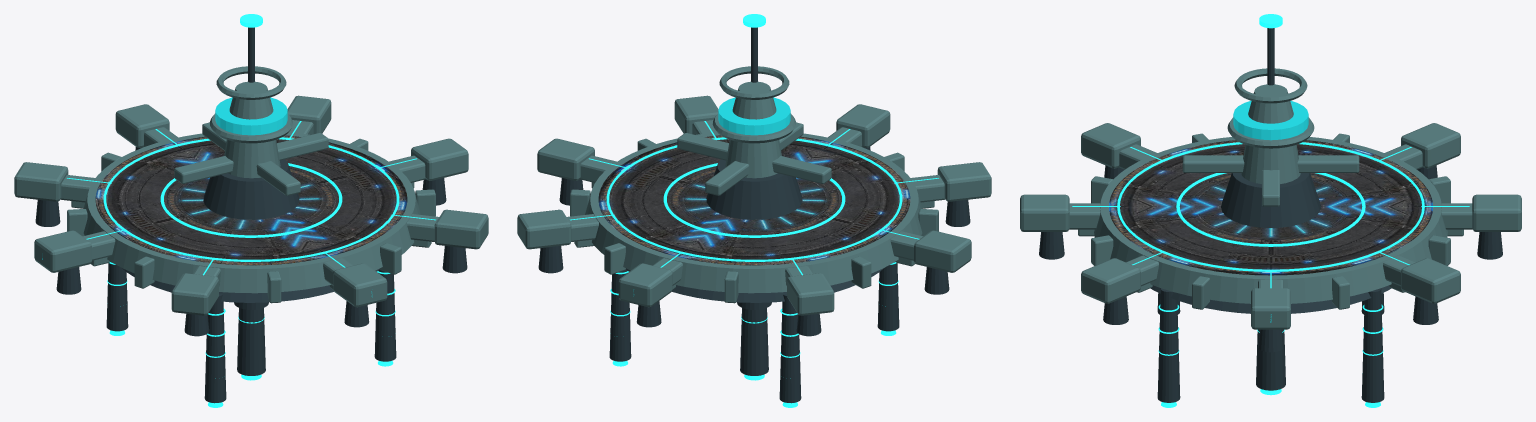
File: tempest-ozone-base-v2.glb
3 views of the same model, side by side, from view 1: azimuth 30°, elevation 25°; view 2: azimuth 150°, elevation 25°; view 3: azimuth 270°, elevation 25° (orthographic). The views are drawn at different scales.
Visible parts, largest first — view 1: tempest_ozone_base_v2__lod0__Tempest orbital armor, tempest_ozone_base_v2__lod0__Tempest tactical mesh overlay, tempest_ozone_base_v2__lod0__Tempest structural shadow, tempest_ozone_base_v2__lod0__Tempest emissive guidance, tempest_ozone_base_v2__lod0__Tempest recessed glazing; view 2: tempest_ozone_base_v2__lod0__Tempest orbital armor, tempest_ozone_base_v2__lod0__Tempest tactical mesh overlay, tempest_ozone_base_v2__lod0__Tempest structural shadow, tempest_ozone_base_v2__lod0__Tempest emissive guidance, tempest_ozone_base_v2__lod0__Tempest recessed glazing; view 3: tempest_ozone_base_v2__lod0__Tempest orbital armor, tempest_ozone_base_v2__lod0__Tempest tactical mesh overlay, tempest_ozone_base_v2__lod0__Tempest structural shadow, tempest_ozone_base_v2__lod0__Tempest emissive guidance, tempest_ozone_base_v2__lod0__Tempest recessed glazing.
Boxes of the visible parts, bbox=[...] form: tempest_ozone_base_v2__lod0__Tempest orbital armor: bbox=[14, 66, 488, 315]; tempest_ozone_base_v2__lod0__Tempest tactical mesh overlay: bbox=[95, 135, 407, 265]; tempest_ozone_base_v2__lod0__Tempest structural shadow: bbox=[35, 27, 467, 403]; tempest_ozone_base_v2__lod0__Tempest emissive guidance: bbox=[67, 14, 435, 407]; tempest_ozone_base_v2__lod0__Tempest recessed glazing: bbox=[42, 97, 372, 297]; tempest_ozone_base_v2__lod0__Tempest orbital armor: bbox=[517, 66, 991, 315]; tempest_ozone_base_v2__lod0__Tempest tactical mesh overlay: bbox=[598, 135, 910, 265]; tempest_ozone_base_v2__lod0__Tempest structural shadow: bbox=[538, 27, 970, 403]; tempest_ozone_base_v2__lod0__Tempest emissive guidance: bbox=[570, 14, 938, 407]; tempest_ozone_base_v2__lod0__Tempest recessed glazing: bbox=[633, 97, 790, 296]; tempest_ozone_base_v2__lod0__Tempest orbital armor: bbox=[1020, 68, 1521, 329]; tempest_ozone_base_v2__lod0__Tempest tactical mesh overlay: bbox=[1108, 140, 1433, 275]; tempest_ozone_base_v2__lod0__Tempest structural shadow: bbox=[1039, 28, 1502, 402]; tempest_ozone_base_v2__lod0__Tempest emissive guidance: bbox=[1072, 14, 1469, 407]; tempest_ozone_base_v2__lod0__Tempest recessed glazing: bbox=[1233, 100, 1308, 322].
Size of the model in its own units: 934 by 764 by 934.
Materials: 5 (1 with a texture image).
